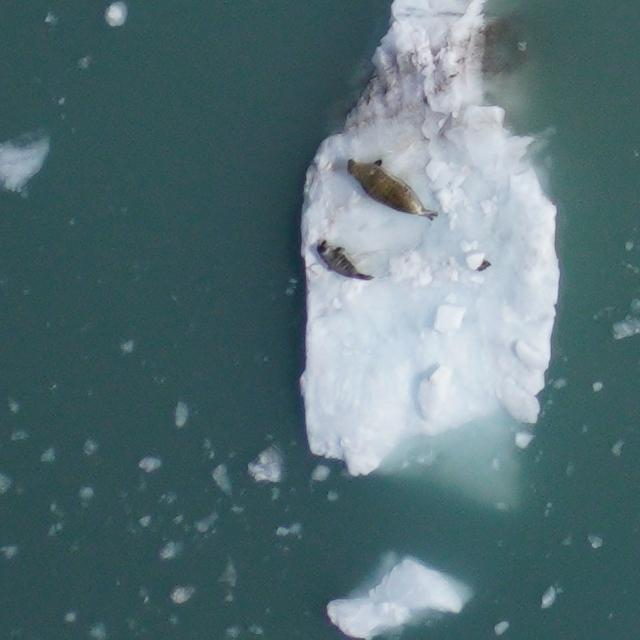seal: (344, 155, 443, 224), (312, 236, 378, 285)
